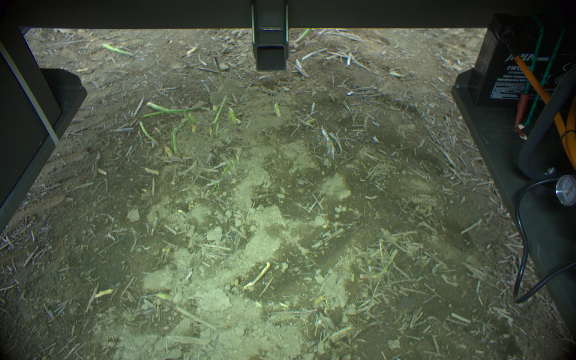aspa: (169, 115, 193, 154), (144, 99, 199, 112), (99, 42, 136, 58), (138, 119, 157, 148), (211, 55, 226, 87), (290, 27, 313, 47)
